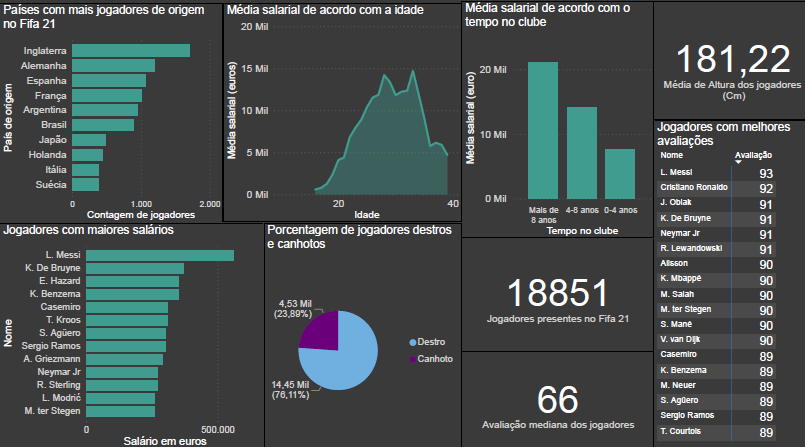

Layout of this report page (visuals, bound fields, positions):
{"tool":"powerbi","page":{"name":"Página 1","canvas":[1280,720],"ordinal":0},"visuals":[{"type":"clusteredBarChart","title":"Países com mais jogadores de origem no Fifa 21","fields":{"Category":["public fifa21.nationality"],"Y":["public fifa21.nationality"]},"box":[0,14.1,353,346.7],"z":0},{"type":"areaChart","title":"Média salarial de acordo com a idade","fields":{"Category":["public fifa21.age"],"Y":["public fifa21.Wage (euro)"]},"box":[352.8,14.3,376.7,346.5],"z":1000},{"type":"barChart","title":"Jogadores com maiores salários","fields":{"Category":["public fifa21.Name"],"Y":["public fifa21.Wage (euro)"]},"box":[0,360.8,417,359.2],"z":2000},{"type":"card","fields":{"Values":["public fifa21.longname"]},"box":[729.4,384.2,303,179.6],"z":3000},{"type":"pivotTable","title":"Jogadores com melhores avaliações","fields":{"Values":["public fifa21.ova"],"Rows":["public fifa21.Name"]},"box":[1032.4,198.4,246.8,521.6],"z":4000},{"type":"clusteredColumnChart","title":"Média salarial de acordo com o tempo no clube","fields":{"Category":["public fifa21.Tempo_clube(Anos) (grupos)"],"Y":["public fifa21.Wage (euro)"]},"box":[729.5,11.1,303.6,373.5],"z":5000},{"type":"pieChart","title":"Porcentagem de jogadores destros e canhotos","fields":{"Category":["public fifa21.foot"],"Y":["public fifa21.foot"]},"box":[417,360.8,312.4,359.2],"z":6000},{"type":"card","fields":{"Values":["public fifa21.Altura (Cm)"]},"box":[1032.4,10.9,246.8,187.4],"z":7000},{"type":"card","fields":{"Values":["public fifa21.ova"]},"box":[729,564,303,156],"z":8000}]}

Visuals, with their boxes in screenshot pixels (x1, y1, x2, y2), scaled from the page's 1280x720 canvas onto the 805x447 screenshot:
"Países com mais jogadores de origem no Fifa 21" clusteredBarChart: <box>0,9,222,224</box>
"Média salarial de acordo com a idade" areaChart: <box>222,9,459,224</box>
"Jogadores com maiores salários" barChart: <box>0,224,262,446</box>
card - public fifa21.longname: <box>459,239,649,350</box>
"Jogadores com melhores avaliações" pivotTable: <box>649,123,804,446</box>
"Média salarial de acordo com o tempo no clube" clusteredColumnChart: <box>459,7,650,239</box>
"Porcentagem de jogadores destros e canhotos" pieChart: <box>262,224,459,446</box>
card - public fifa21.Altura (Cm): <box>649,7,804,123</box>
card - public fifa21.ova: <box>458,350,649,446</box>
